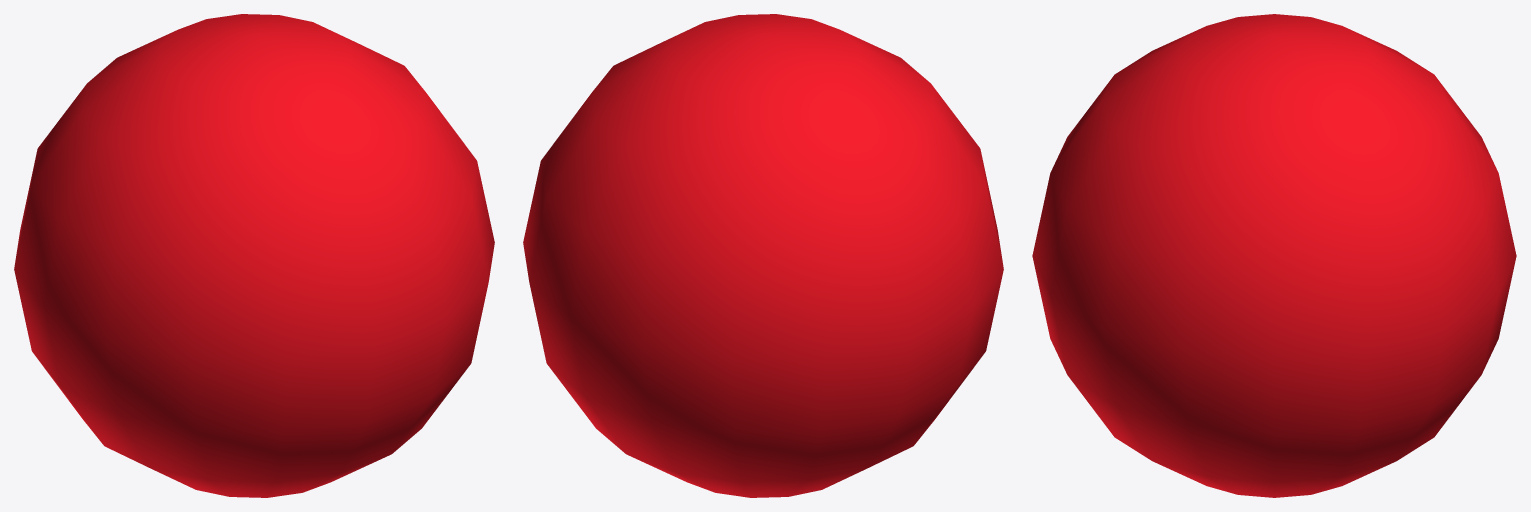
Rendered from bullet.obj.
The picture shows the model from 3 angles, left to right: view 1: azimuth 30°, elevation 25°; view 2: azimuth 150°, elevation 25°; view 3: azimuth 270°, elevation 25°; orthographic projection.
Parts seen in each view (by area): view 1: 球.002; view 2: 球.002; view 3: 球.002.
Part boxes in pixels (<box>): 球.002: <box>14,14,494,497</box>; 球.002: <box>523,14,1003,497</box>; 球.002: <box>1032,14,1516,497</box>.
Bounding box in the file's own units: 2.47 × 2.47 × 2.47.
Materials: 2 (2 with a texture image).
